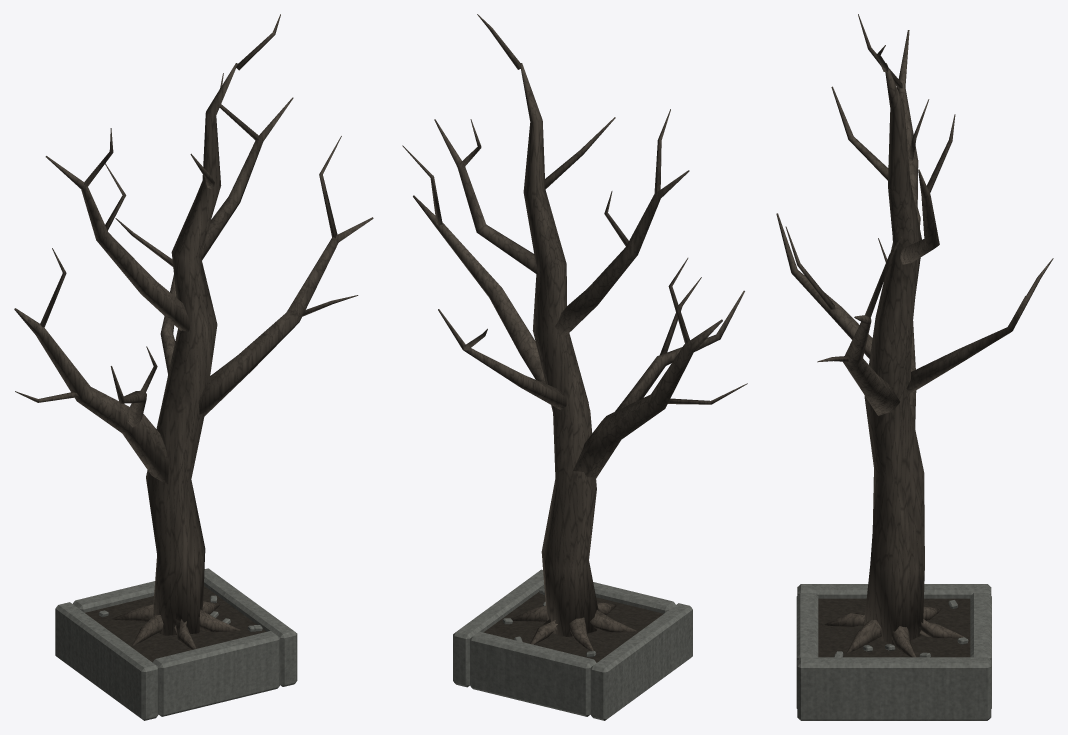
The model's file is dead_tree.glb.
3 views of the same model, side by side, from view 1: azimuth 30°, elevation 25°; view 2: azimuth 150°, elevation 25°; view 3: azimuth 270°, elevation 25° (orthographic). The views are drawn at different scales.
Parts seen in each view (by area): view 1: dead_tree; view 2: dead_tree; view 3: dead_tree.
Boxes of the visible parts, <box> form: dead_tree: <box>14,14,373,720</box>; dead_tree: <box>402,14,747,720</box>; dead_tree: <box>776,14,1053,720</box>.
Bounding box in the file's own units: 3.02 × 5.26 × 1.92.
Materials: 1 (1 with a texture image).
